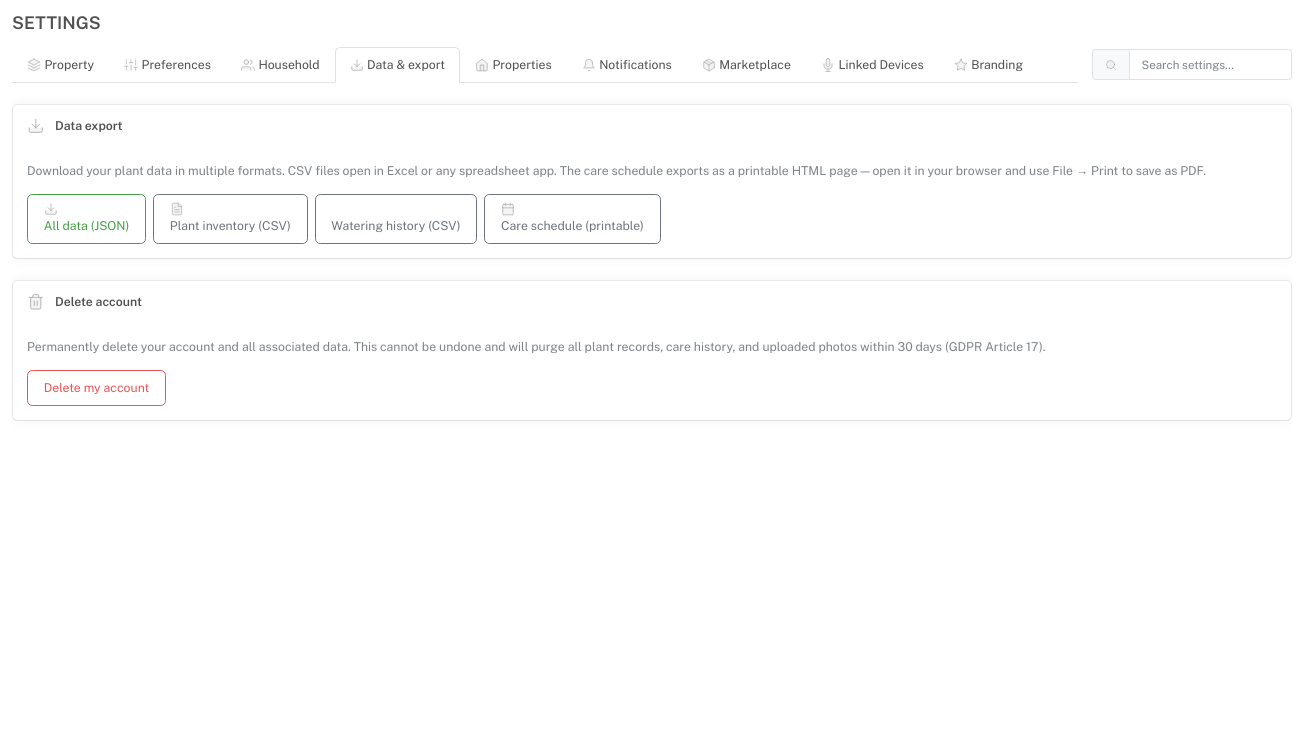
Test: SettingsPage Data tab › shows delete confirmation UI when Delete my account is clicked
Click the button "Delete my account" at (96, 388), box [27,370,166,406]
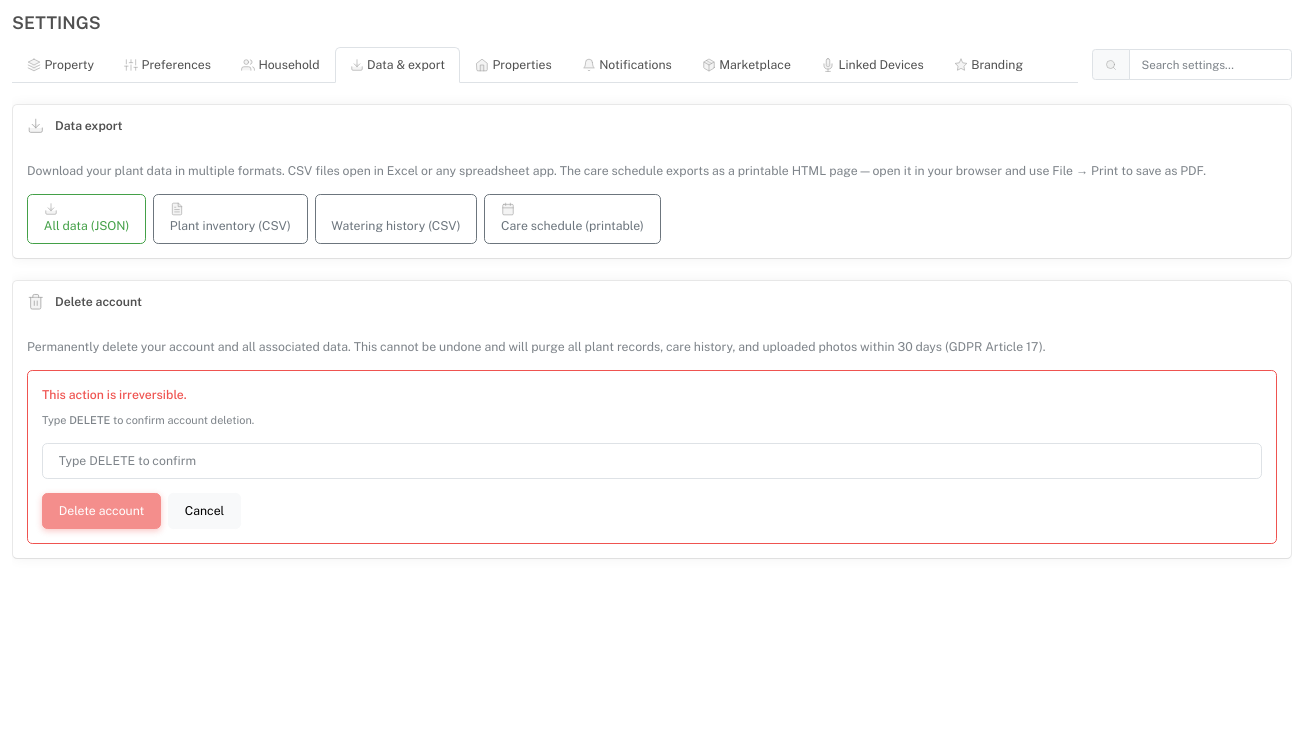
Expected: the field with placeholder "Type DELETE to confirm" is shown, [42,444,1262,479]
Expected: the button "Delete account" is disabled, [42,493,161,529]
